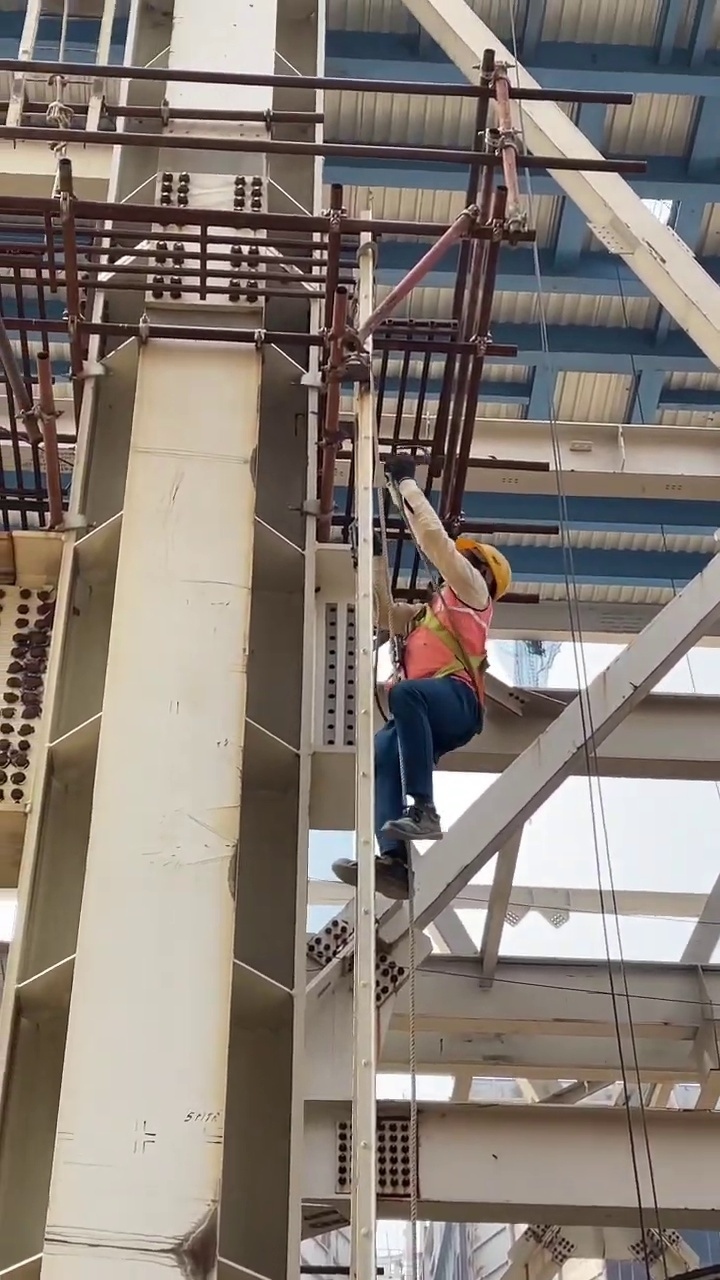Helmet: (453, 537, 514, 598)
Person: (304, 535, 513, 902)
Safety_Harness: (390, 590, 498, 730)
Safety_shoes: (332, 852, 416, 901), (377, 801, 445, 843)
